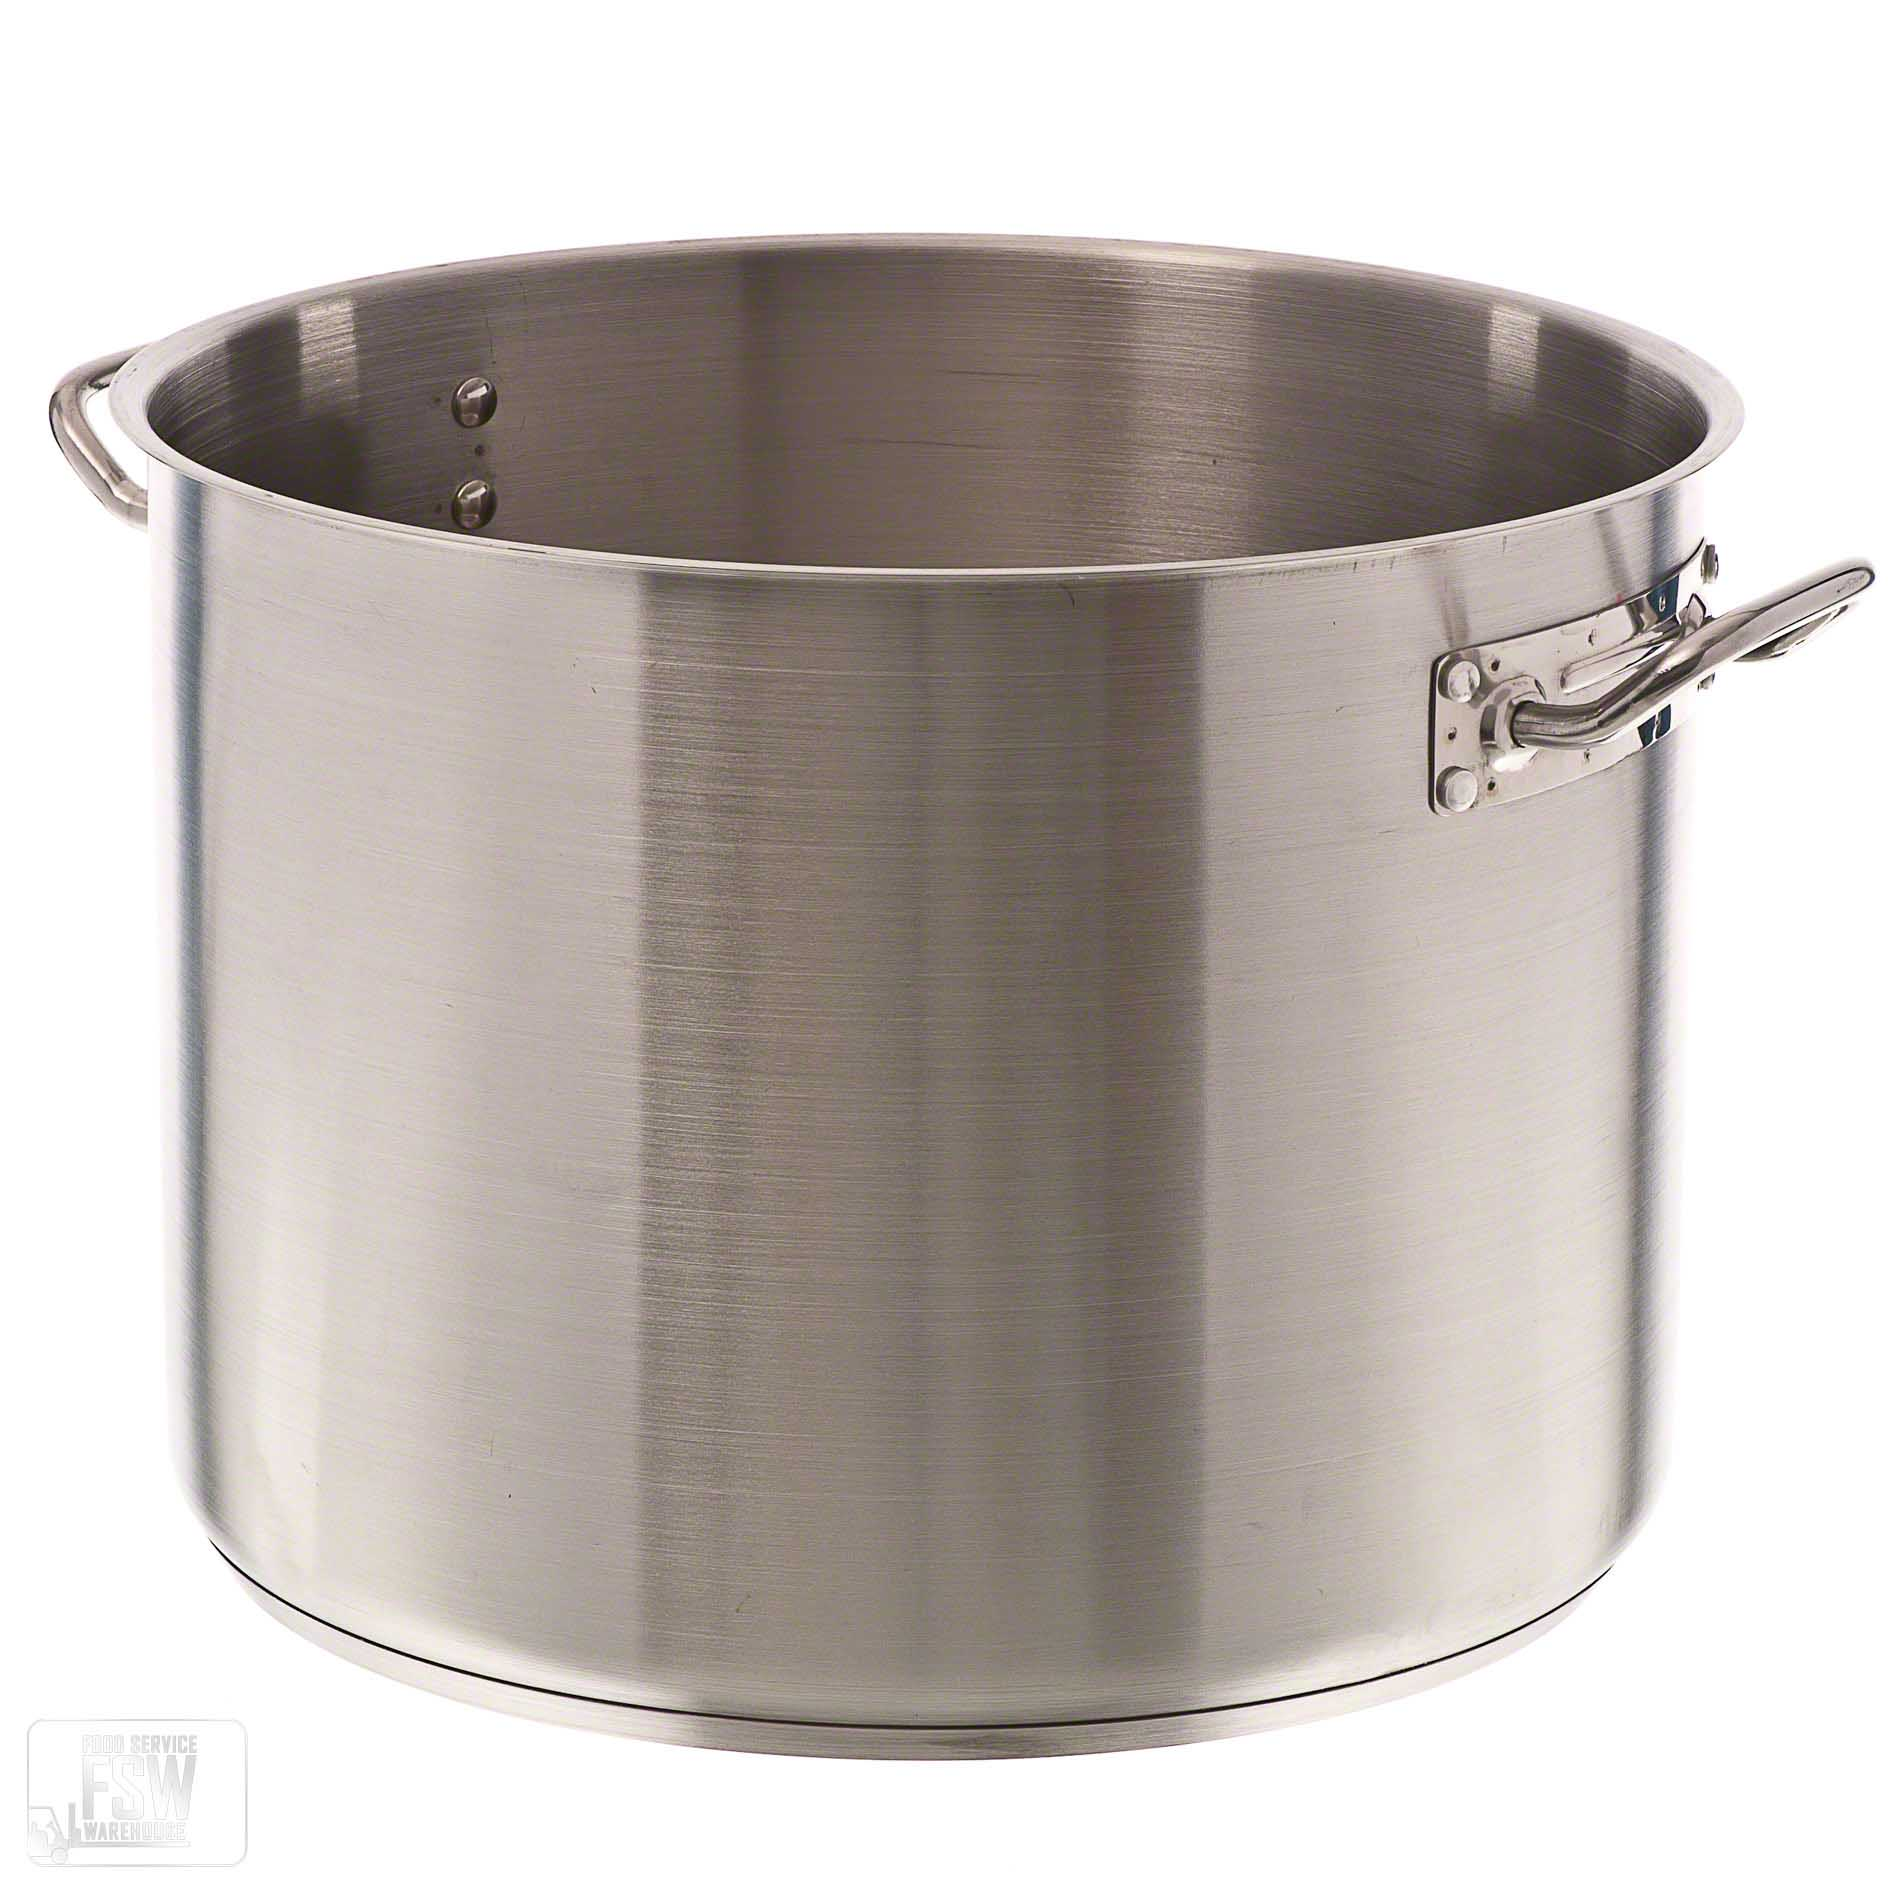Rec_Metal: (9, 77, 1803, 1736)
